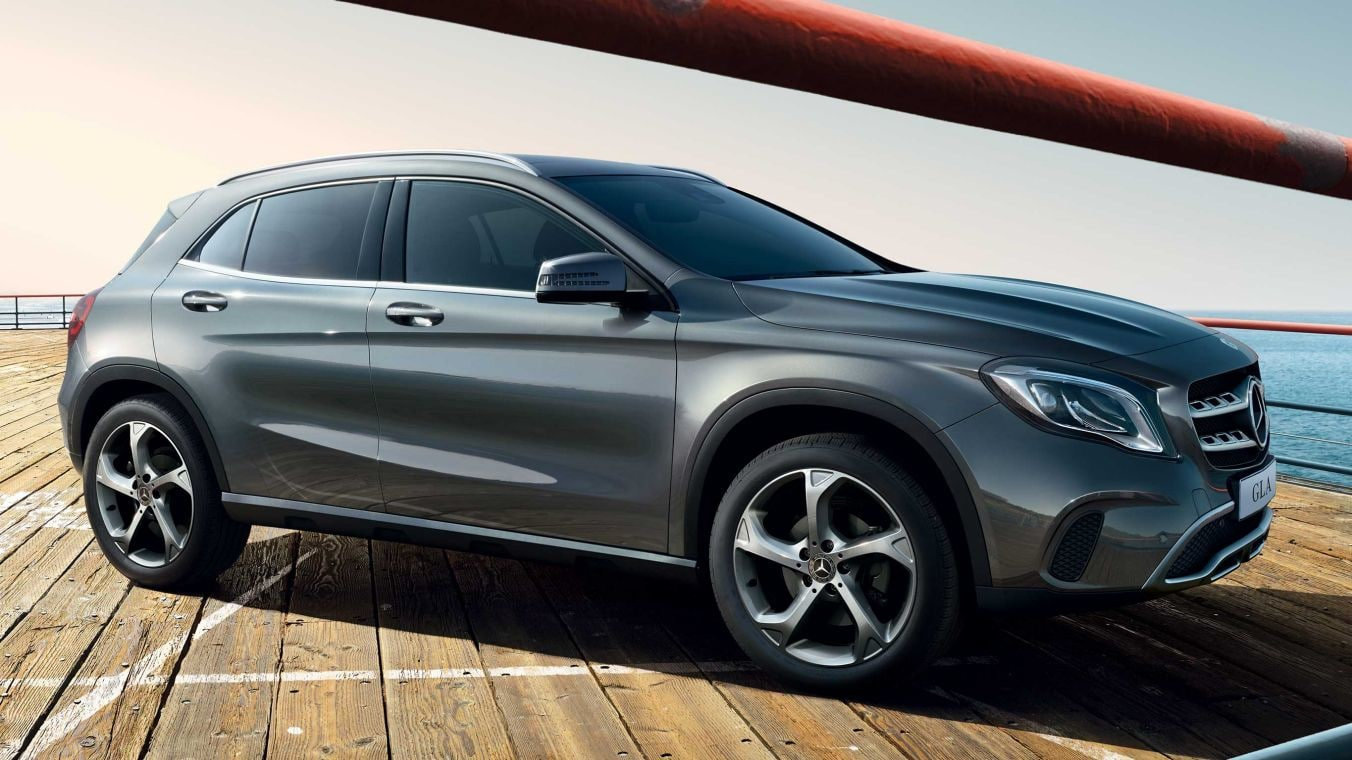gla: (43, 143, 1320, 701)
